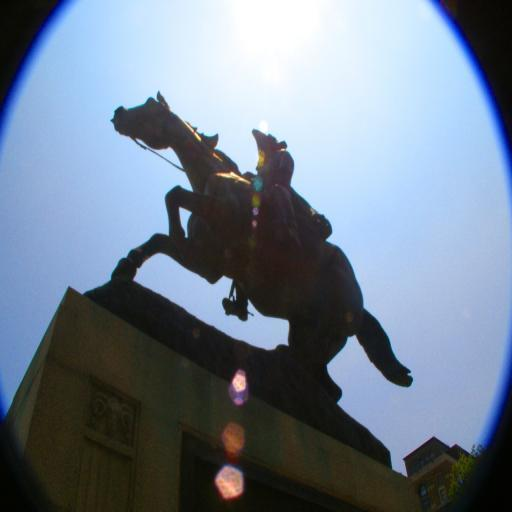horse: (109, 89, 414, 406)
